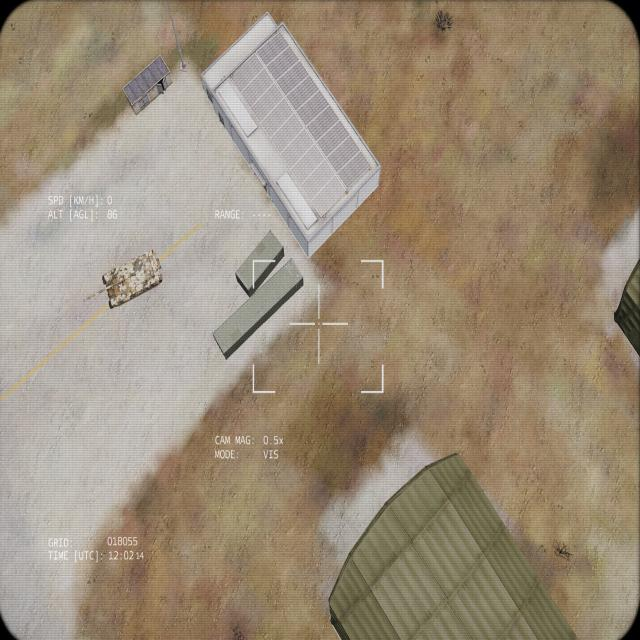tank: (81, 247, 163, 310)
